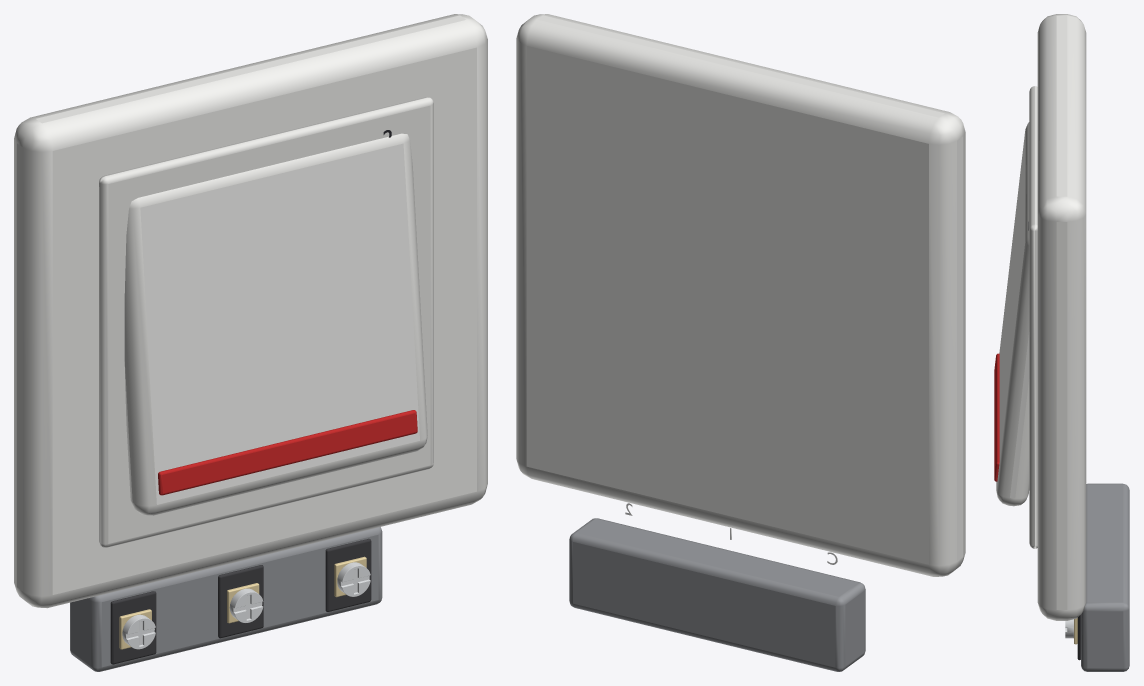
The picture shows the model from 3 angles, left to right: view 1: azimuth 30°, elevation 25°; view 2: azimuth 150°, elevation 25°; view 3: azimuth 270°, elevation 25°; orthographic projection. The views are drawn at different scales.
Parts seen in each view (by area): view 1: body, mech; view 2: body, mech; view 3: body, mech.
Part boxes in pixels (x1,y1,x2,y2): body: [14, 14, 487, 608]; mech: [70, 527, 382, 671]; body: [516, 14, 965, 576]; mech: [569, 503, 865, 671]; body: [994, 14, 1086, 620]; mech: [1065, 483, 1129, 671].
Size of the model in its own units: 0.086 by 0.103 by 0.025.
